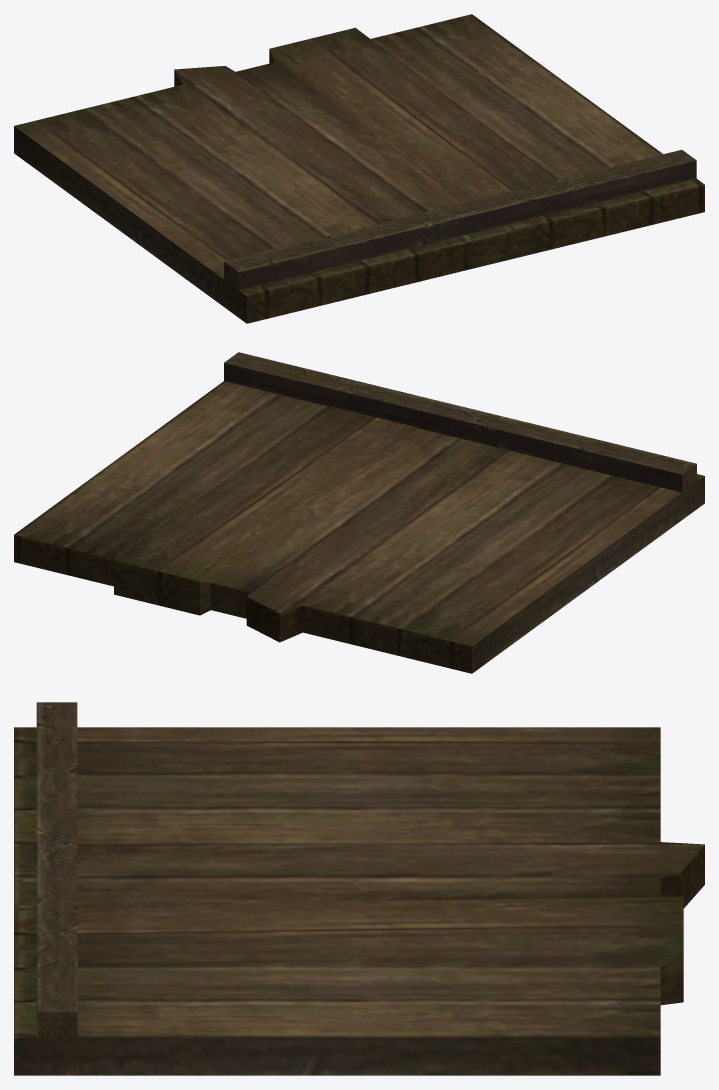
File: yw_juxianzhuang_muqiao05.FBX
3 views of the same model, one above another, from view 1: azimuth 30°, elevation 25°; view 2: azimuth 150°, elevation 25°; view 3: azimuth 270°, elevation 25° (orthographic). The views are drawn at different scales.
Parts seen in each view (by area): view 1: yw_juxianzhuang_muqiao05; view 2: yw_juxianzhuang_muqiao05; view 3: yw_juxianzhuang_muqiao05.
Part boxes in pixels (left/top/right/bottom): yw_juxianzhuang_muqiao05: left=14, top=14, right=704, bottom=323; yw_juxianzhuang_muqiao05: left=14, top=352, right=704, bottom=673; yw_juxianzhuang_muqiao05: left=14, top=702, right=704, bottom=1075.
Bounding box in the file's own units: 546 × 52.05 × 514.
1 material, 1 textured.
